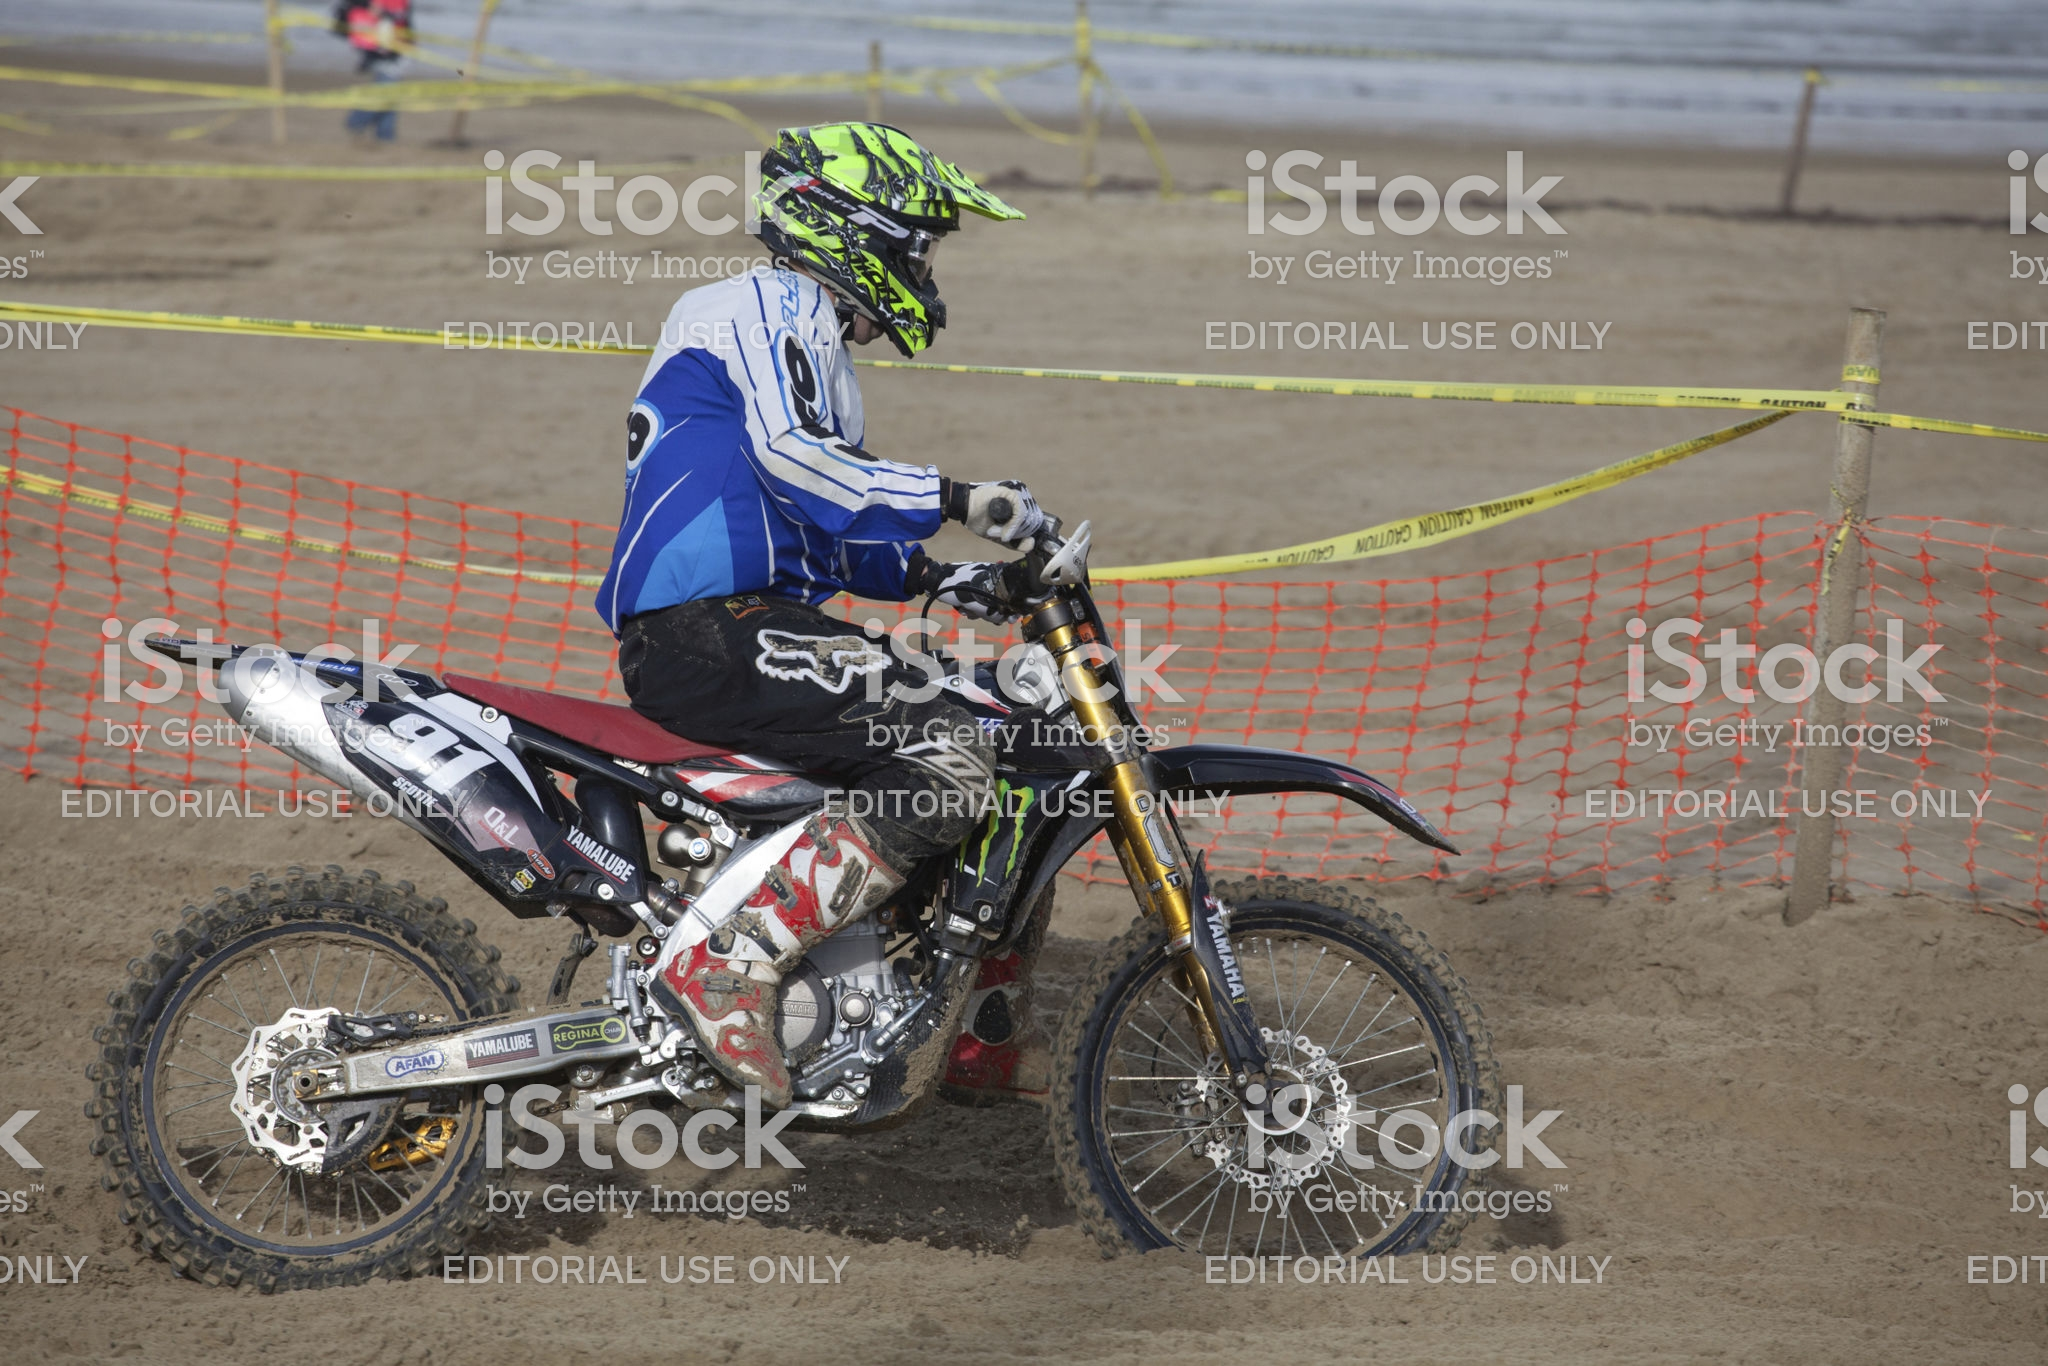helmet: (731, 90, 1004, 345)
